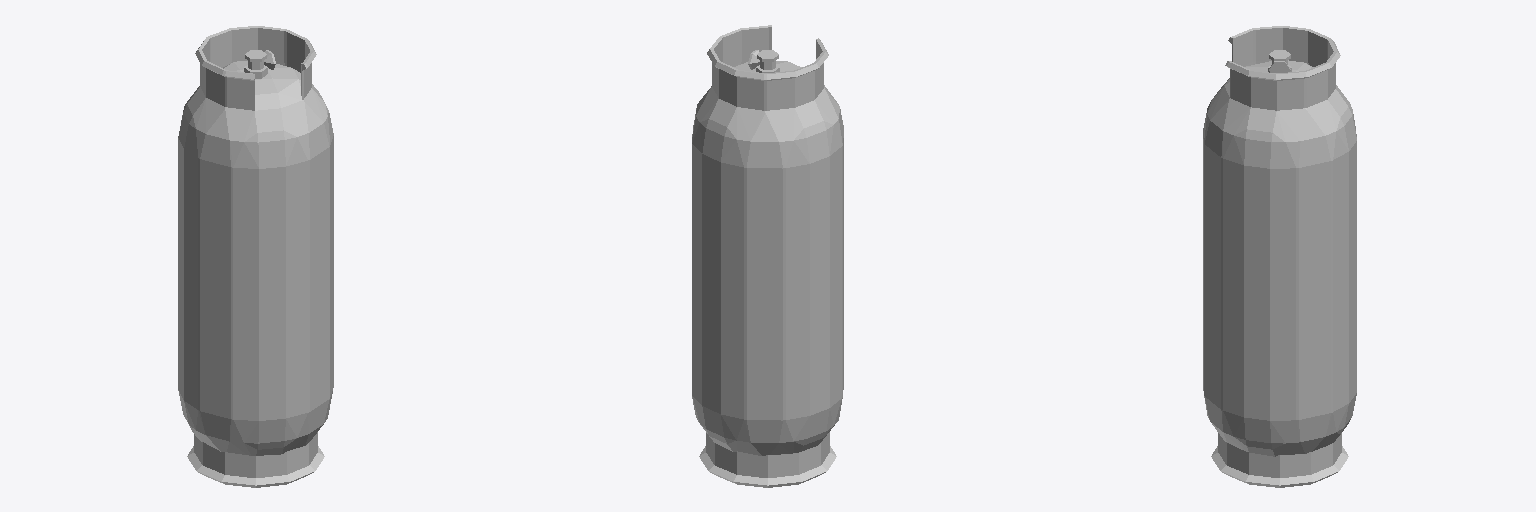
The model's file is gasbottle.obj.
3 renders of one model, left to right at view 1: azimuth 30°, elevation 25°; view 2: azimuth 150°, elevation 25°; view 3: azimuth 270°, elevation 25°, orthographic.
Parts seen in each view (by area): view 1: CylMesh_Mesh; view 2: CylMesh_Mesh; view 3: CylMesh_Mesh.
Part boxes in pixels (bbox=[...]): CylMesh_Mesh: bbox=[178, 26, 333, 487]; CylMesh_Mesh: bbox=[692, 25, 843, 487]; CylMesh_Mesh: bbox=[1203, 26, 1356, 487].
Bounding box in the file's own units: 22.82 × 67.18 × 22.82.